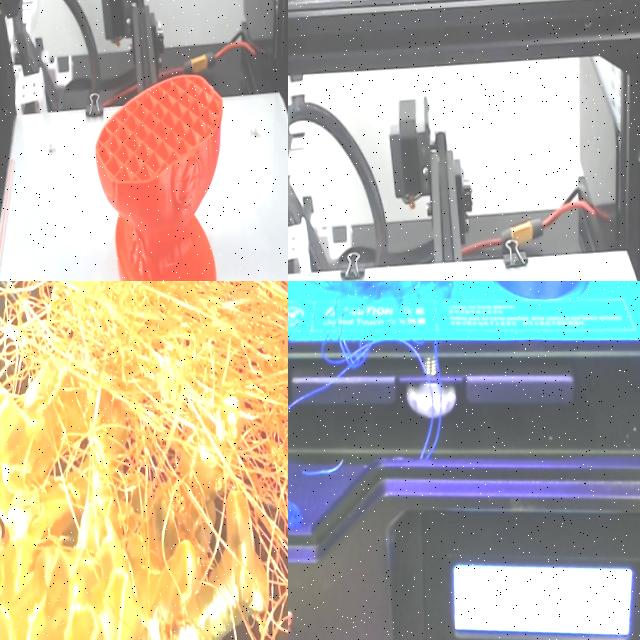spaghetti: (0, 281, 288, 640), (288, 281, 571, 346), (288, 487, 322, 539)
